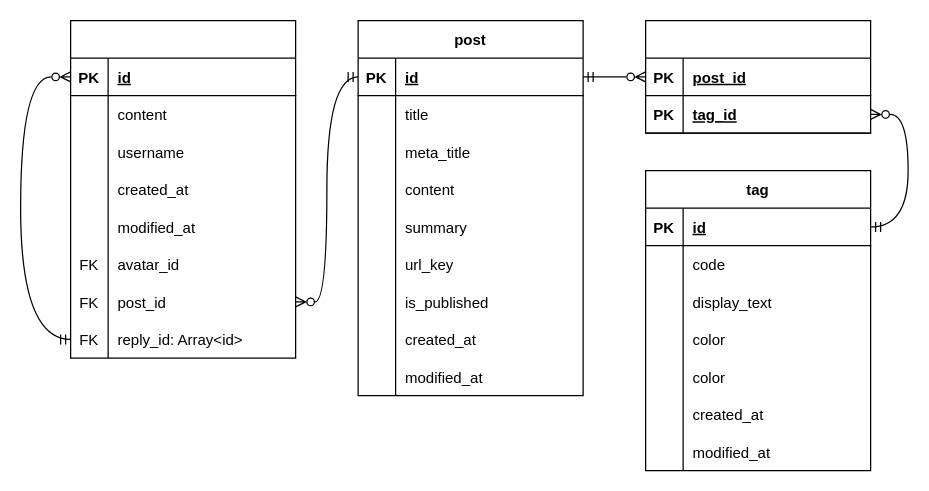
Some shapes in this 929 by 491 pixel diagram are drawn without their labels. The box of each missing label's shape, as (x1, y1, x2, y2) in pixels:
comments: (69, 19, 296, 358)
post_tag: (644, 19, 871, 133)
